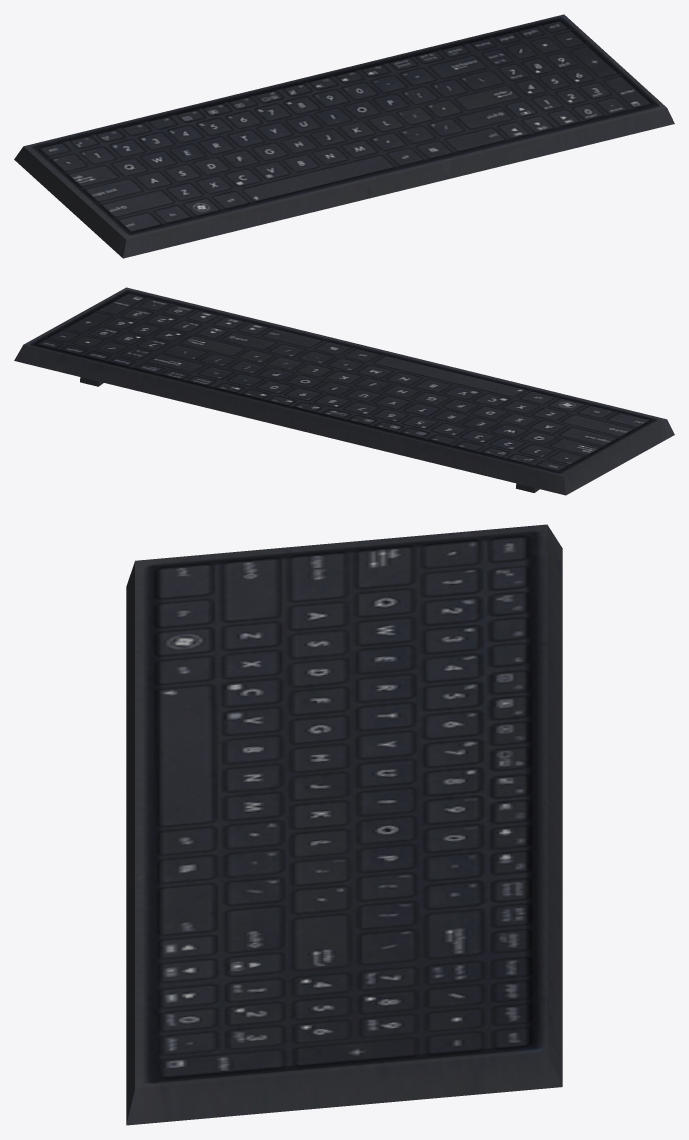
File: Sun_computer_keyboard_Park.fbx
3 views of the same model, one above another, from view 1: azimuth 30°, elevation 25°; view 2: azimuth 150°, elevation 25°; view 3: azimuth 270°, elevation 25° (orthographic). The views are drawn at different scales.
Parts seen in each view (by area): view 1: Sun_keyboard; view 2: Sun_keyboard; view 3: Sun_keyboard.
Boxes of the visible parts, box(x1,y1,x2,y2) form: Sun_keyboard: box(14, 14, 674, 258); Sun_keyboard: box(14, 287, 674, 495); Sun_keyboard: box(126, 524, 562, 1125).
Bounding box in the file's own units: 37.42 × 2.22 × 12.81.
